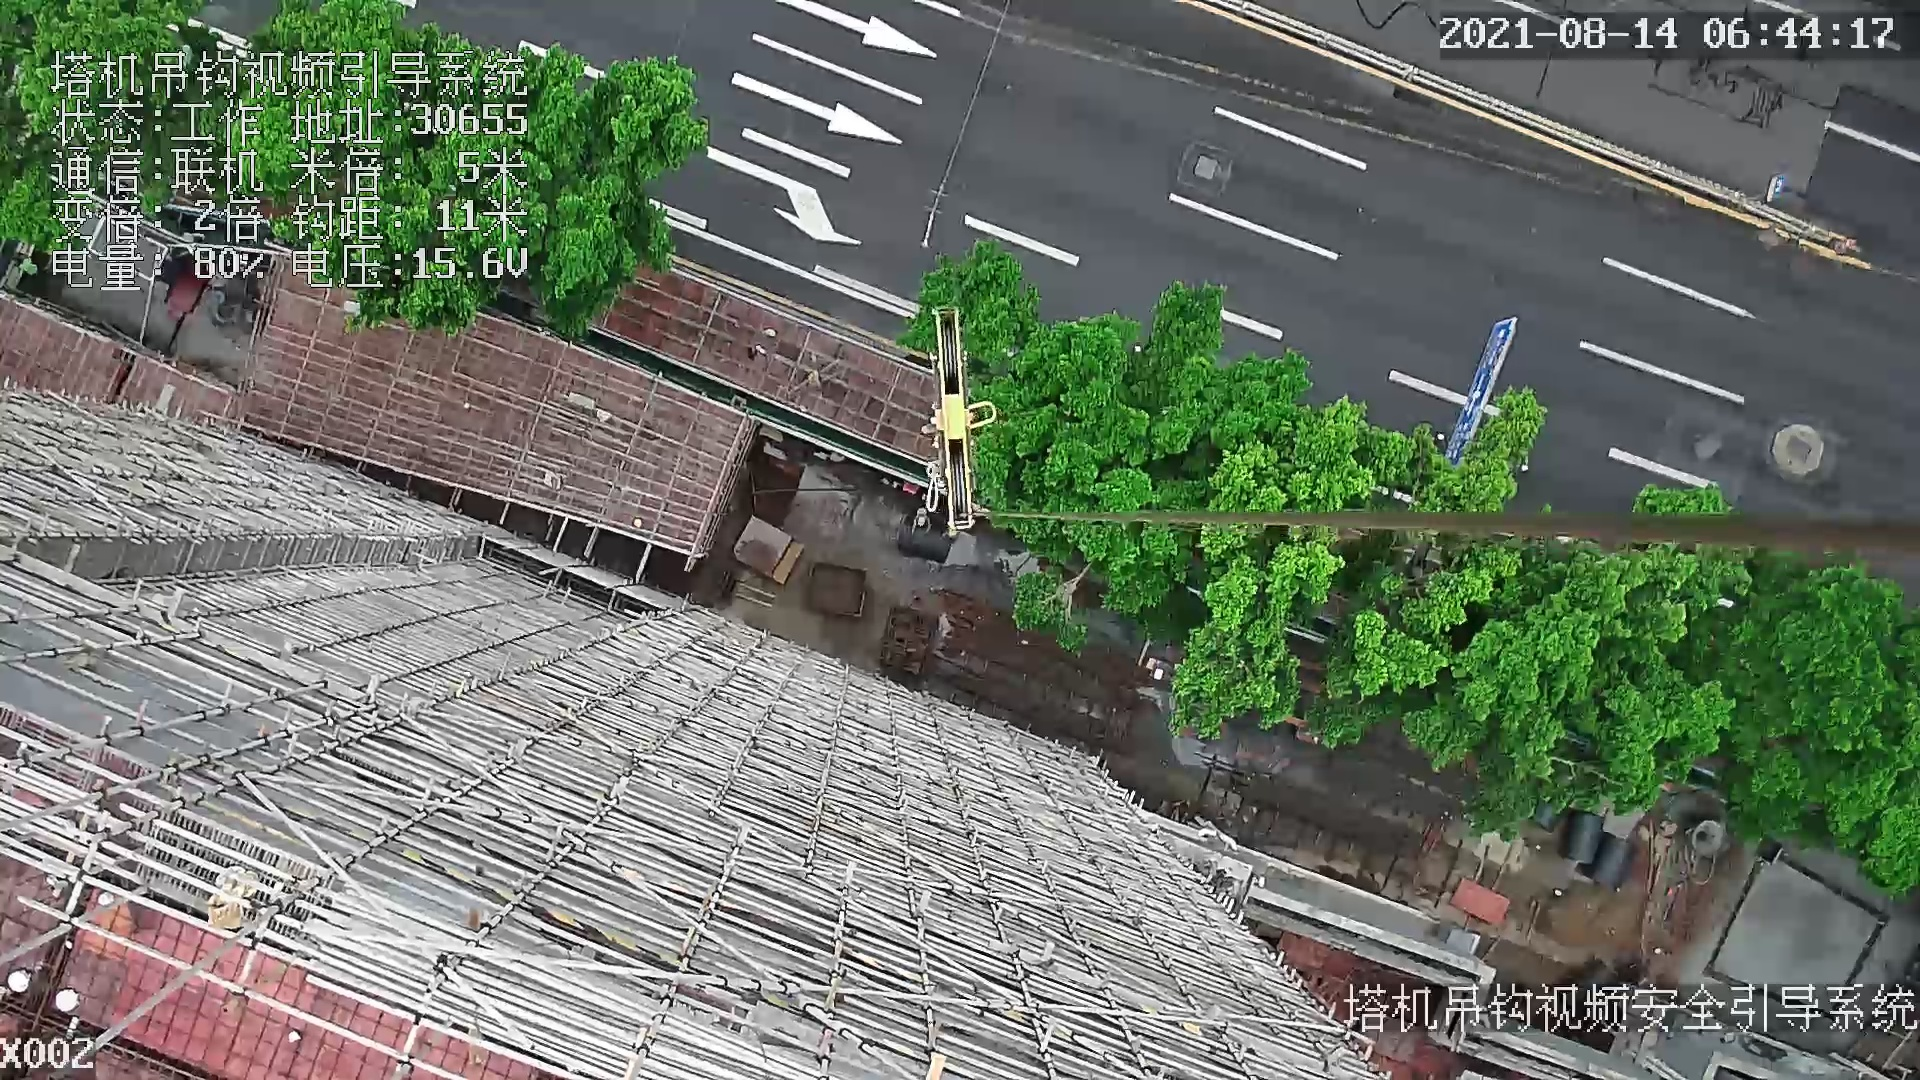hook: (923, 309, 1000, 535)
